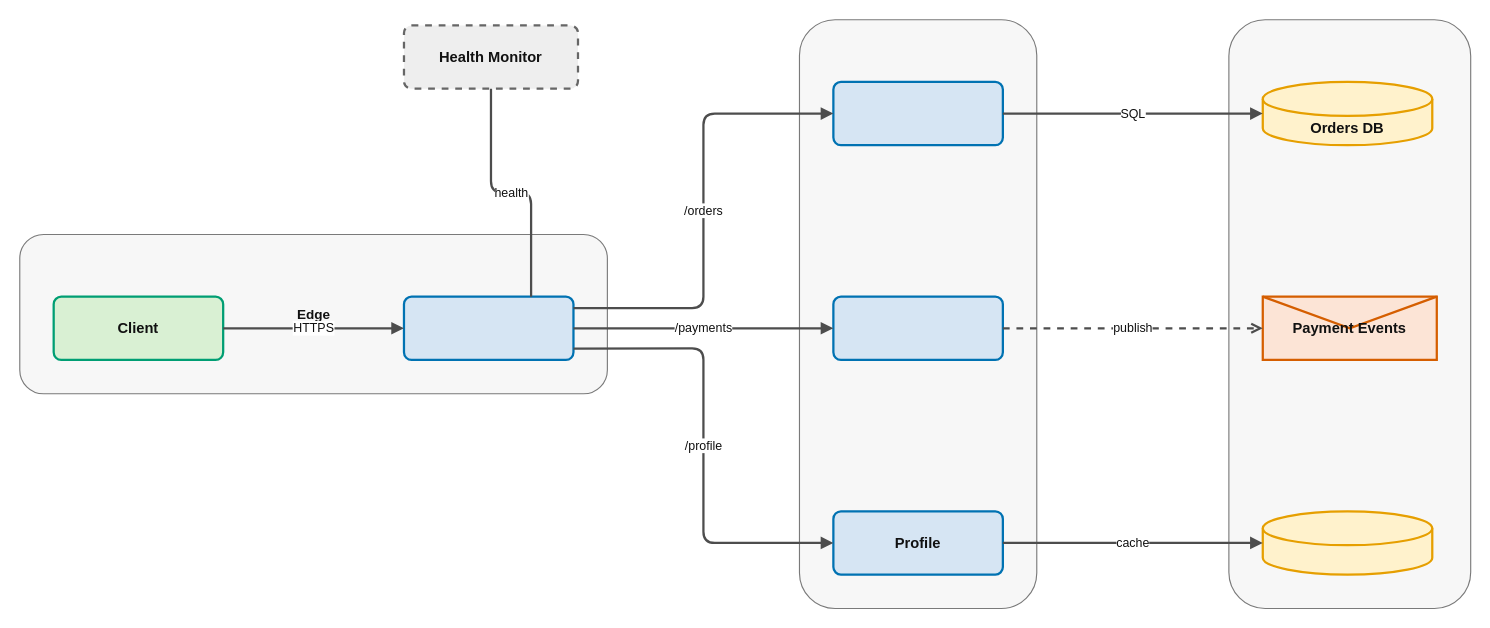
Some shapes in this 1490 by 628 pixel diagram are drawn without their labels. Here are the shapes that lost their labels. From the top down, the centre of each, then its label:
the point at 917,113: Orders
the point at 488,327: API Gateway
the point at 917,327: Payments
the point at 1347,542: Profile Cache
